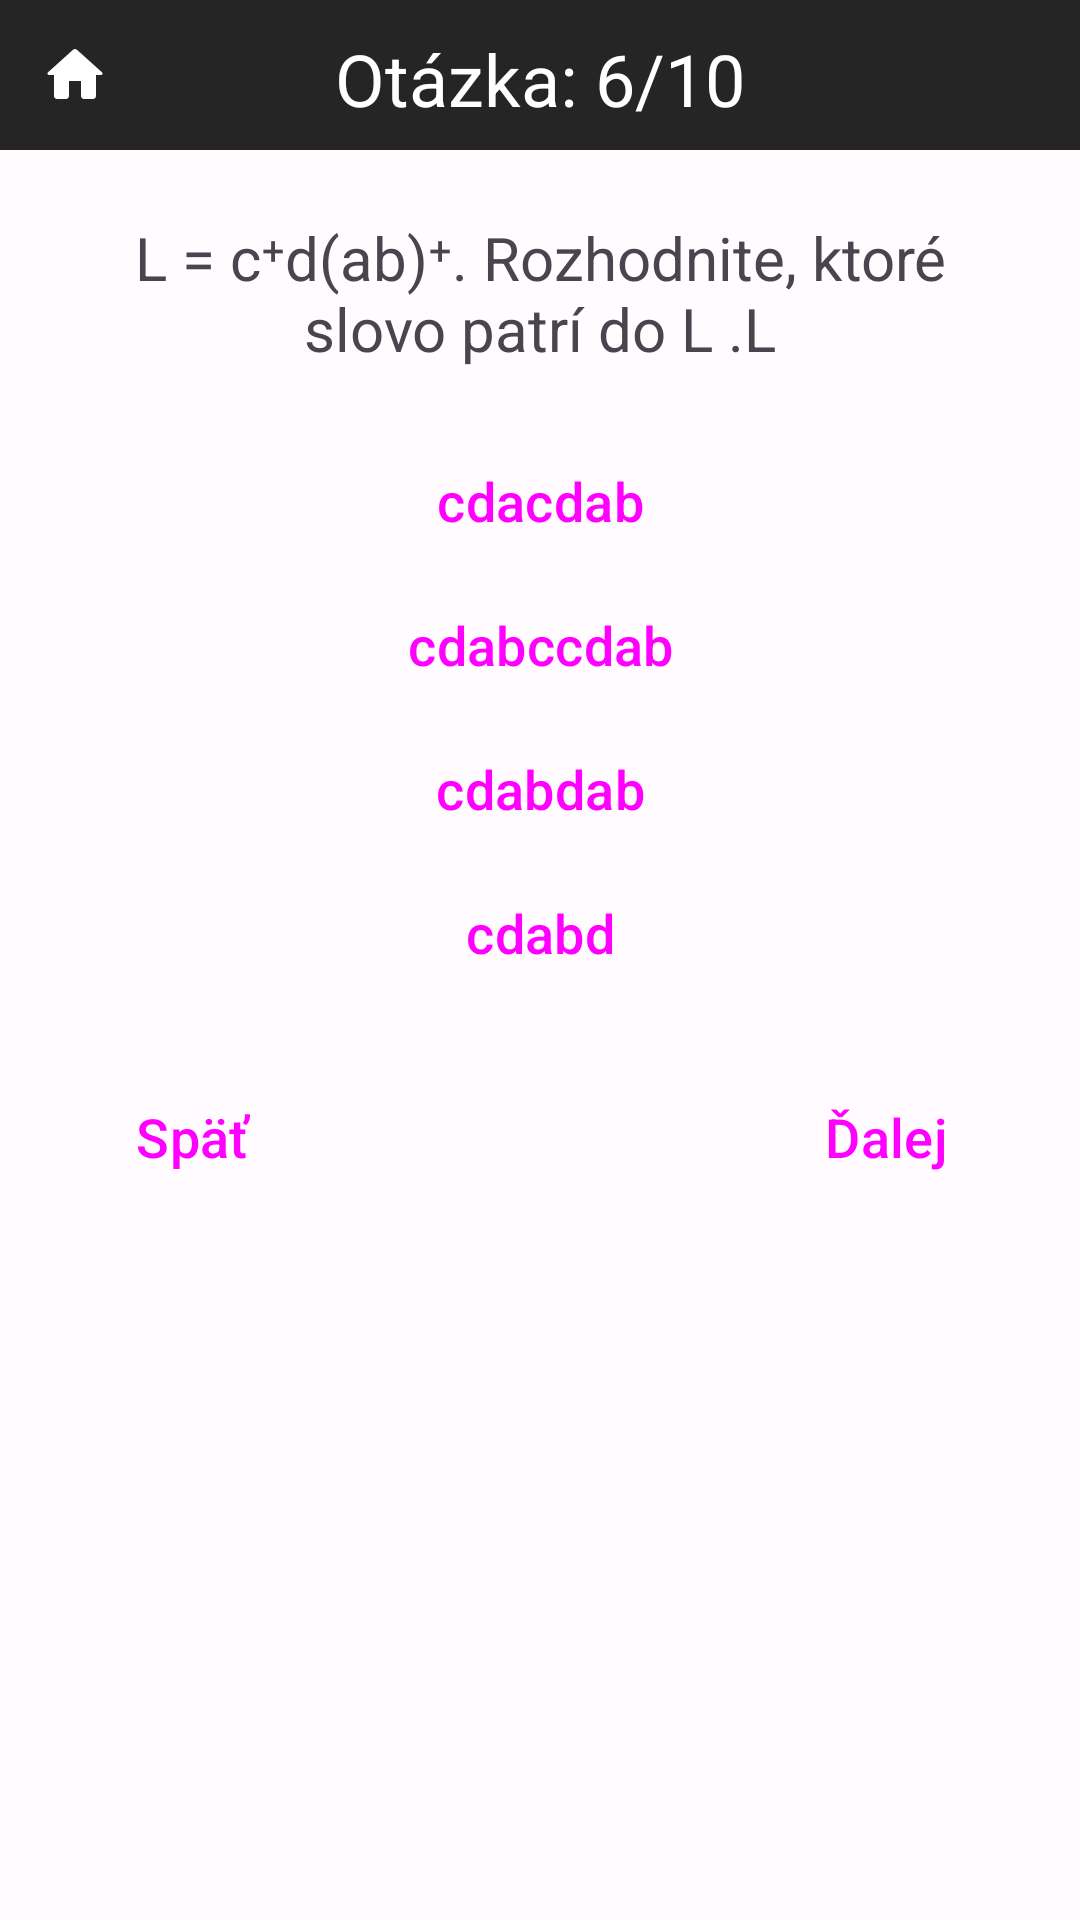

Screen size 1080w x 1920h. Icon name, then its center in pixels as (x=x, y=y):
domov: (x=75, y=74)
